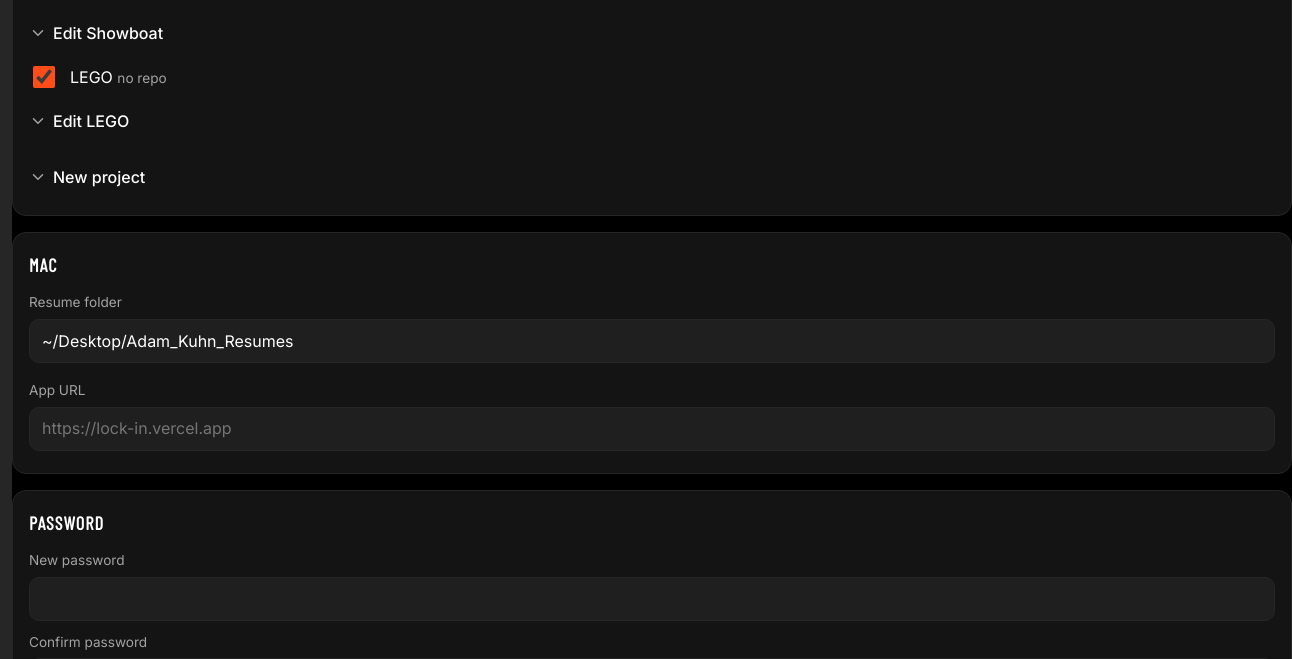
Settings › shows fixed copy next to a text field that failed to save
(page scrolled)
Replace the text in the field labelled "Resume folder" with "/tmp/x": (652, 341) x1=29 y1=319 x2=1275 y2=363
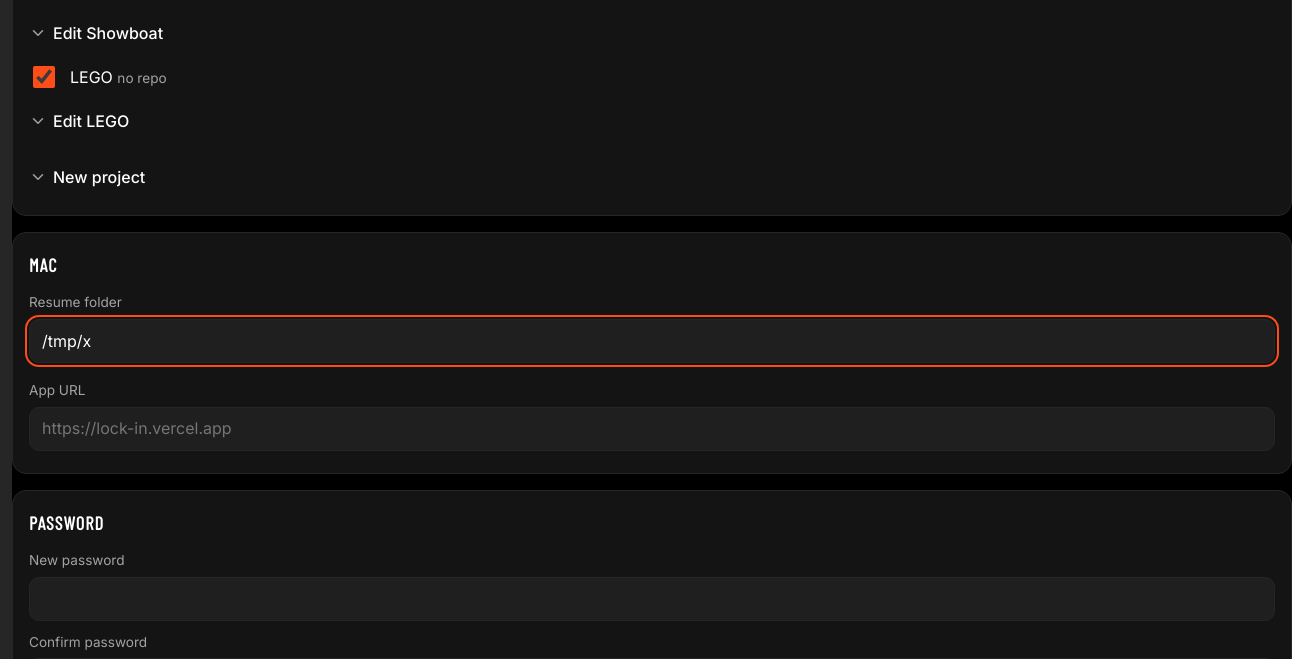
Press Tab
(page scrolled)
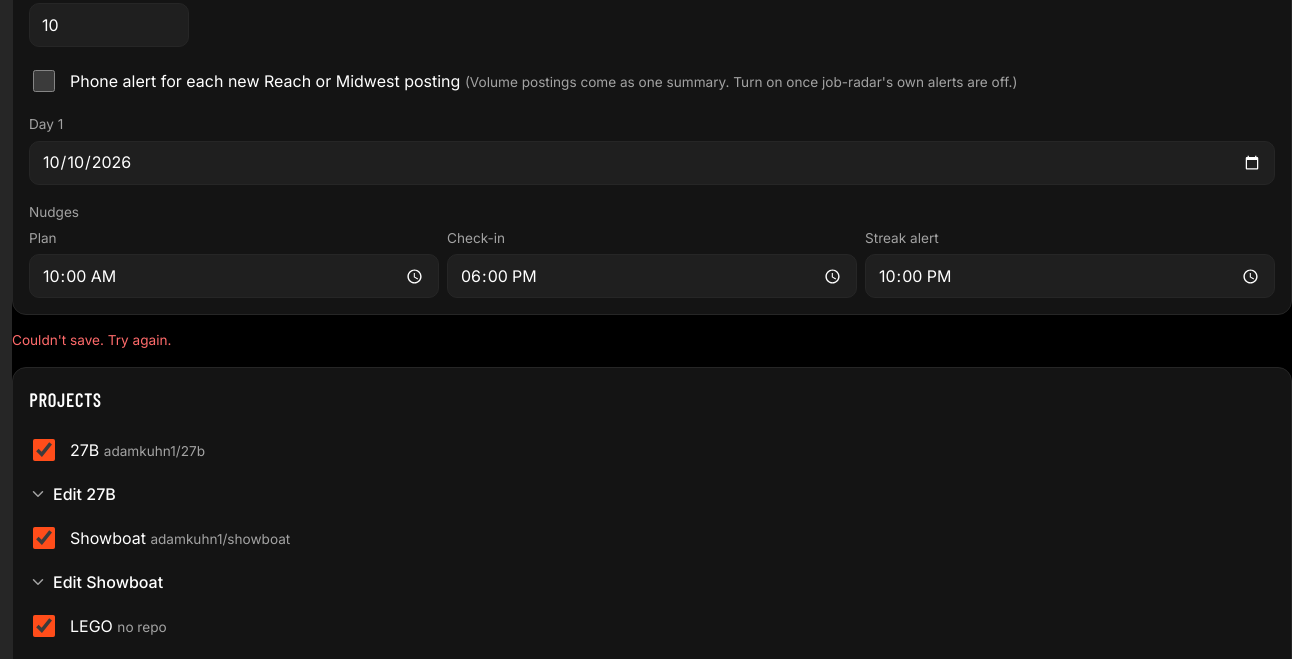
Expected: the text "Couldn't save. Try again." is shown, x1=12 y1=332 x2=171 y2=348
